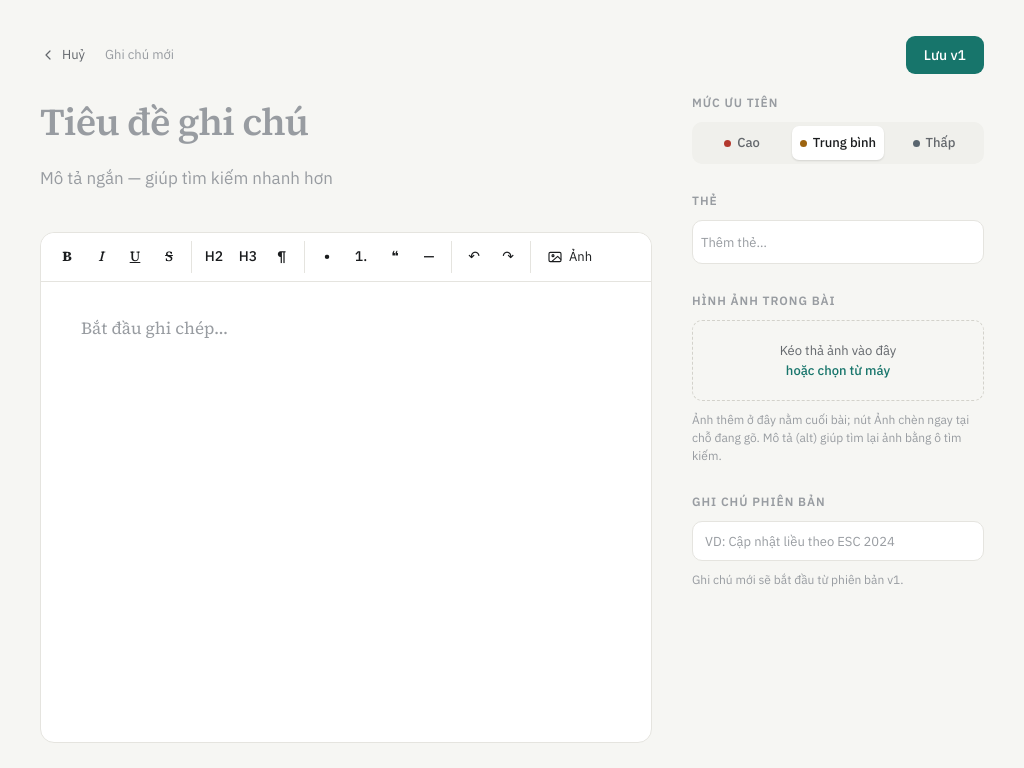
Test: EditorClient › POSTs a new note and toasts the version the server reports
Step 1. Type "Ghi chú mới" into the field labelled "Tiêu đề ghi chú" → (346, 122), box x1=40 y1=94 x2=652 y2=151
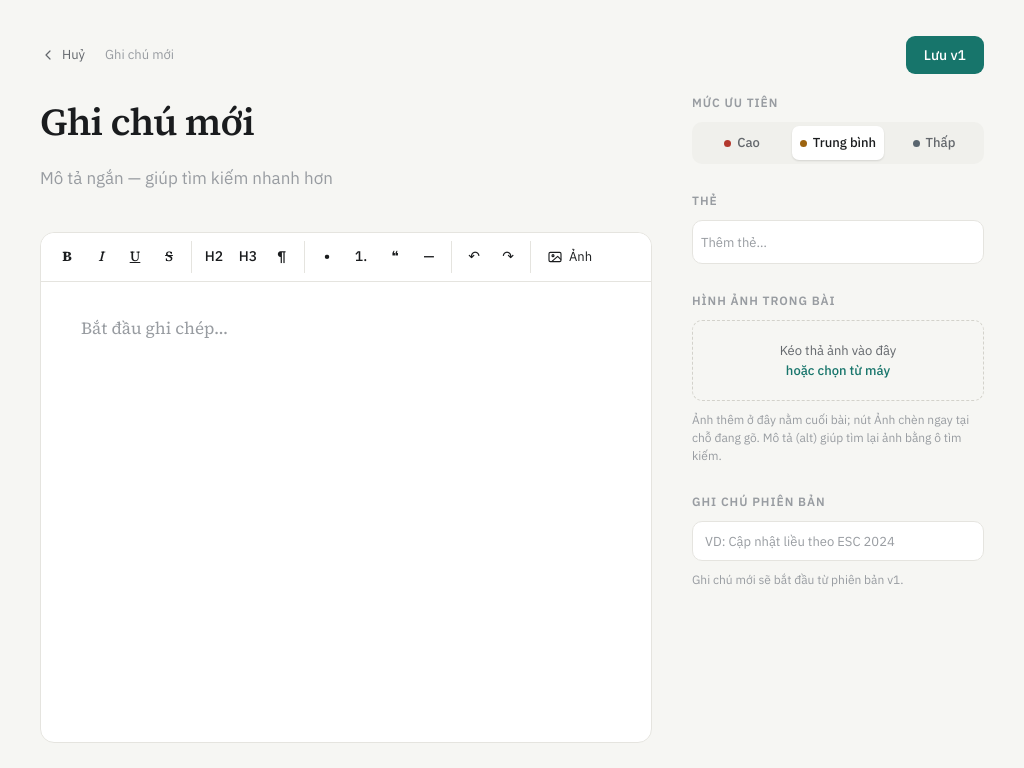
Step 2. Click the button "Lưu v1" → (945, 55), box x1=906 y1=36 x2=984 y2=74
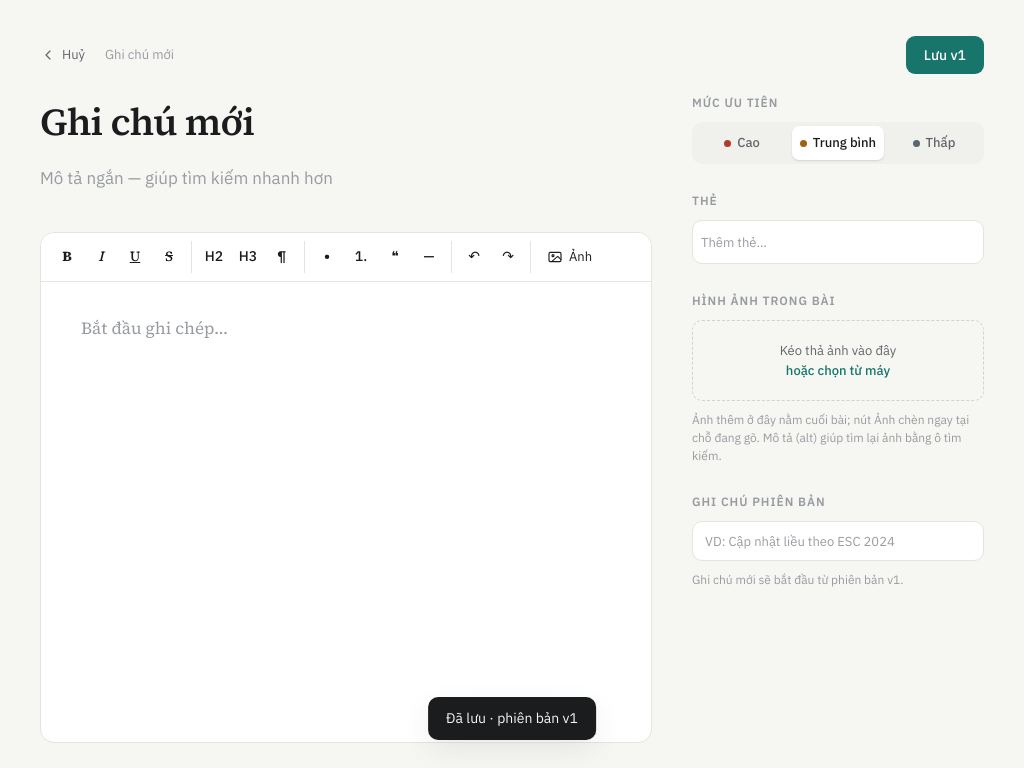
Expected: the text "Ghi chú mới" is shown, x1=105 y1=45 x2=174 y2=65
Expected: the text "Đã lưu · phiên bản v1" is shown, x1=428 y1=697 x2=596 y2=740
